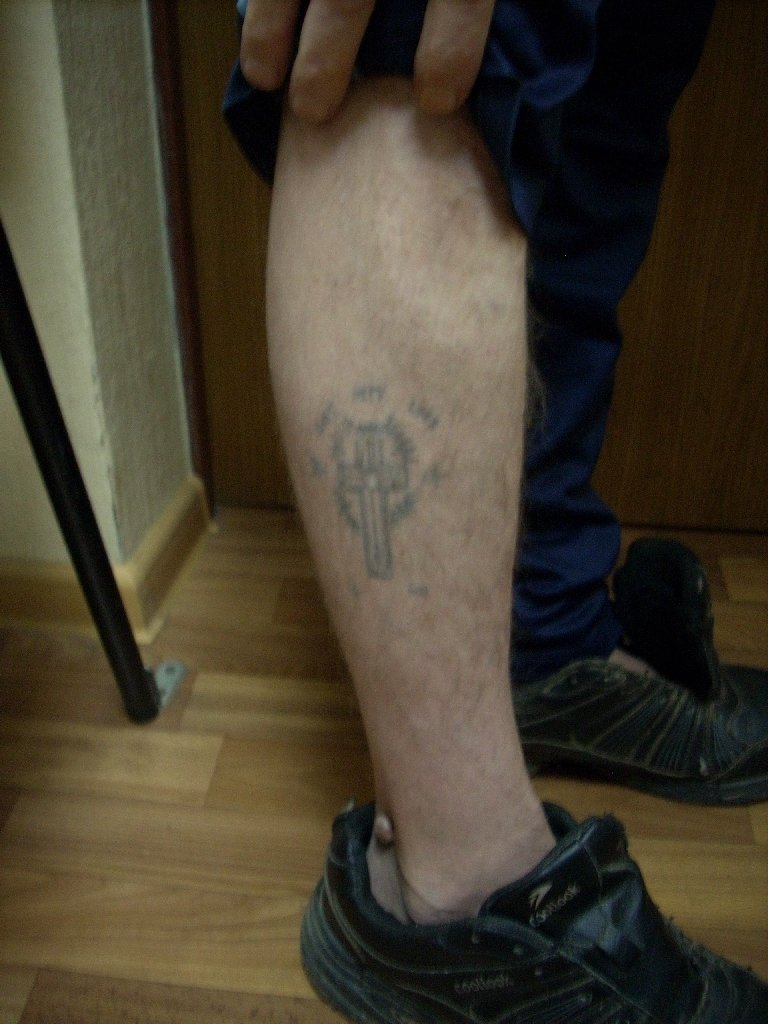tatu9_krest: (330, 422, 429, 590)
